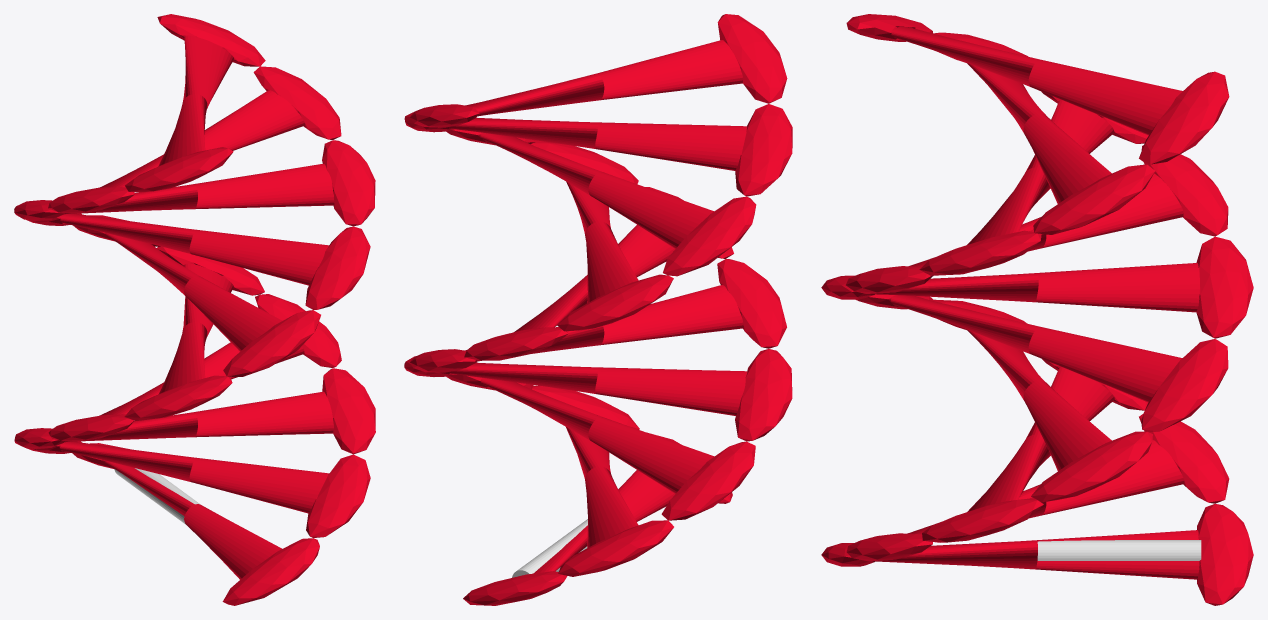
The model's file is ADN.fbx.
3 renders of one model, left to right at view 1: azimuth 30°, elevation 25°; view 2: azimuth 150°, elevation 25°; view 3: azimuth 270°, elevation 25°, orthographic. The views are drawn at different scales.
Visible parts, largest first — view 1: Esfera geodésica, Cilindro; view 2: Esfera geodésica, Cilindro; view 3: Esfera geodésica, Cilindro.
Boxes of the visible parts, box(x1,y1,x2,y2) form: Esfera geodésica: box(14, 14, 375, 605); Cilindro: box(114, 468, 200, 524); Esfera geodésica: box(404, 14, 792, 605); Cilindro: box(512, 519, 587, 577); Esfera geodésica: box(821, 14, 1253, 605); Cilindro: box(1037, 540, 1201, 560).
Size of the model in its own units: 1425 by 2000 by 1467.
